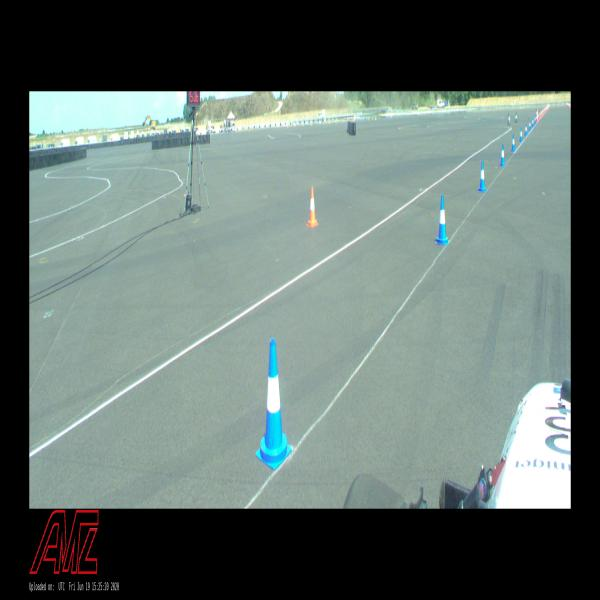blue_cone: (255, 339, 292, 470), (435, 196, 449, 245), (478, 160, 487, 193), (500, 144, 505, 166), (512, 134, 516, 152), (519, 127, 523, 142), (524, 122, 528, 136), (528, 120, 531, 130), (532, 118, 534, 128), (534, 115, 536, 124)
large_orange_cone: (536, 110, 539, 122)
orange_cone: (306, 186, 318, 228)
